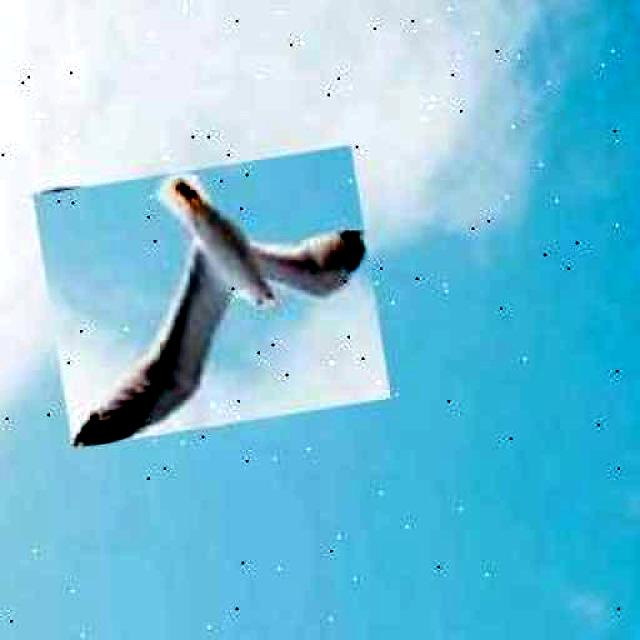airplane: (32, 145, 391, 449)
